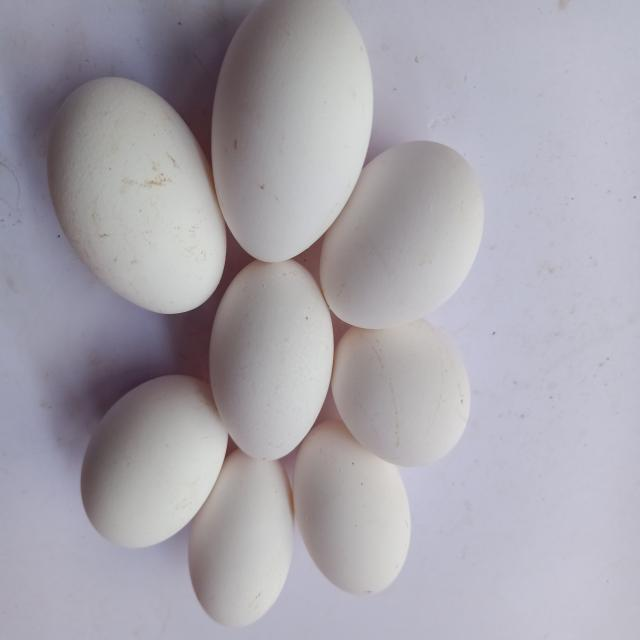Egg: (46, 76, 226, 313), (211, 0, 373, 262), (320, 140, 484, 328), (80, 375, 228, 548), (209, 259, 334, 460), (331, 319, 471, 467), (293, 421, 411, 595), (188, 449, 294, 628), (426, 212, 427, 212)
